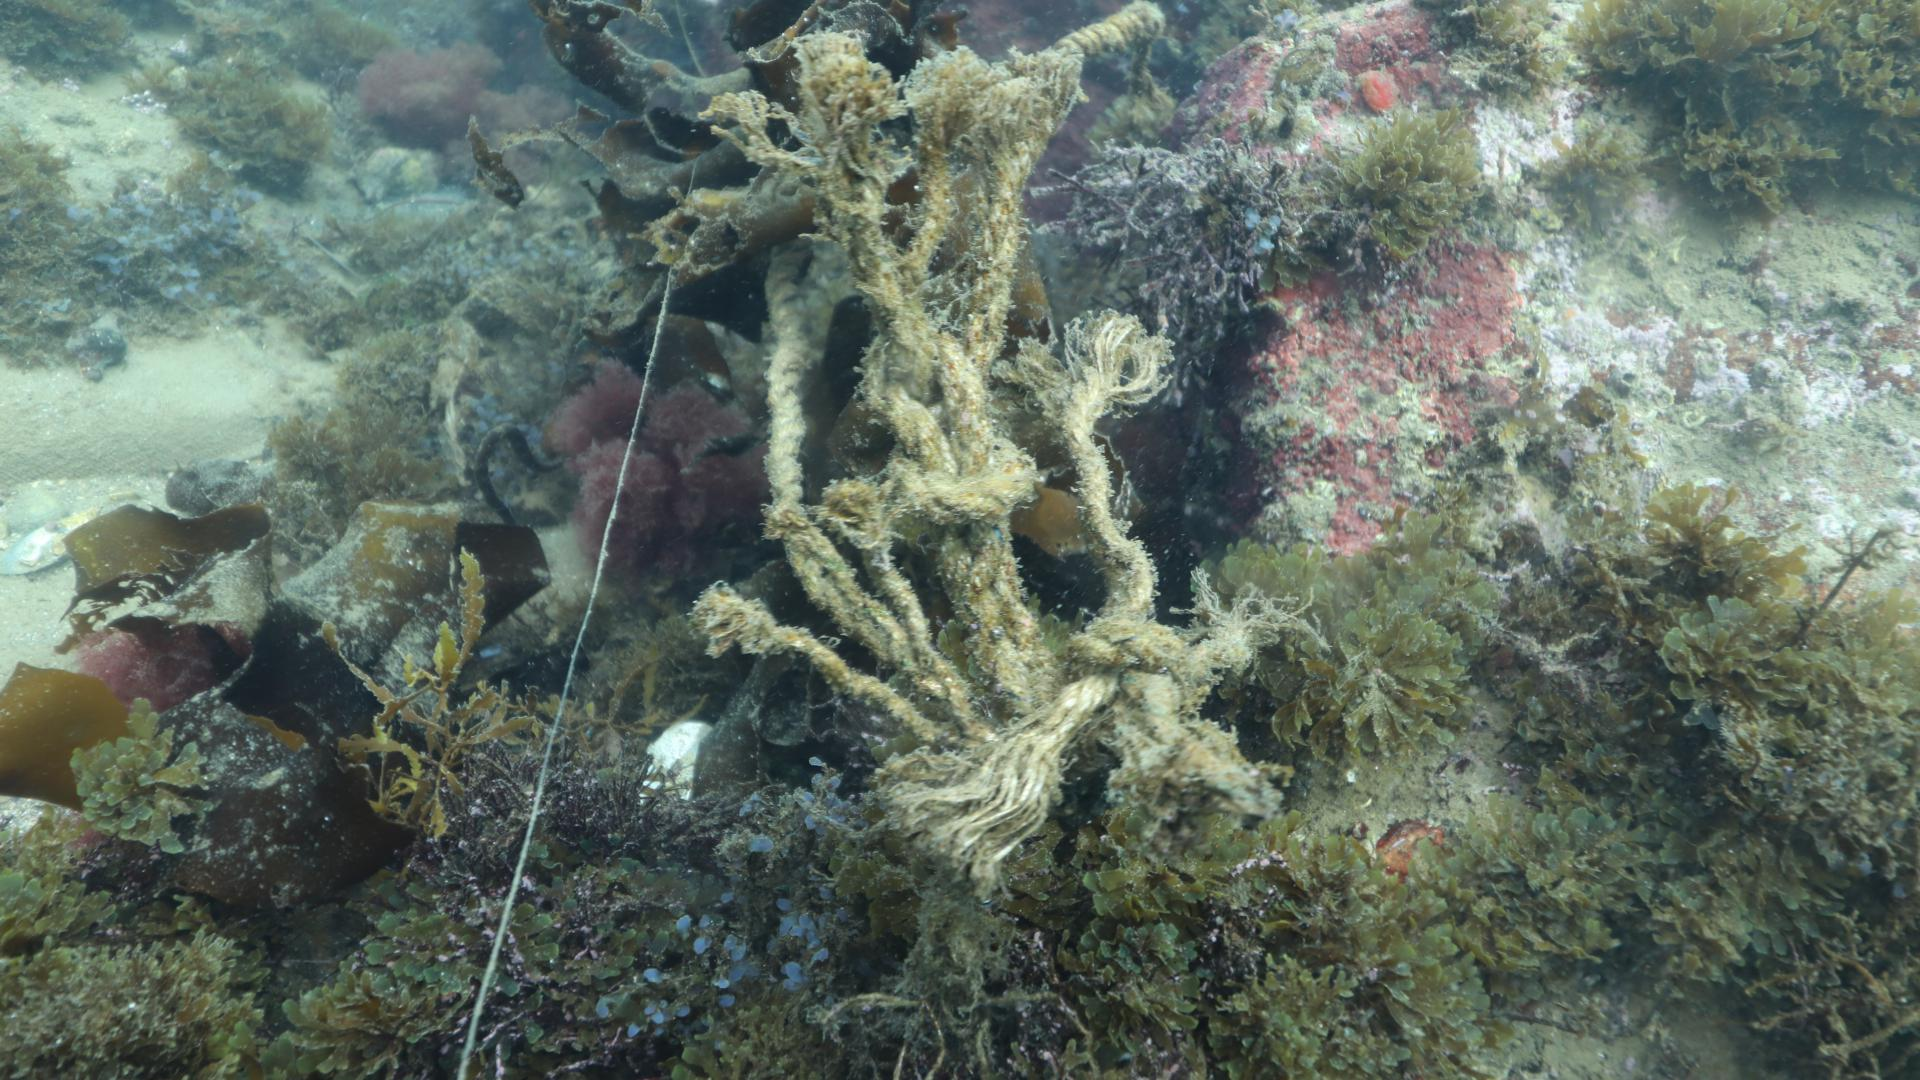bundle of ropes: (761, 235, 1159, 752)
